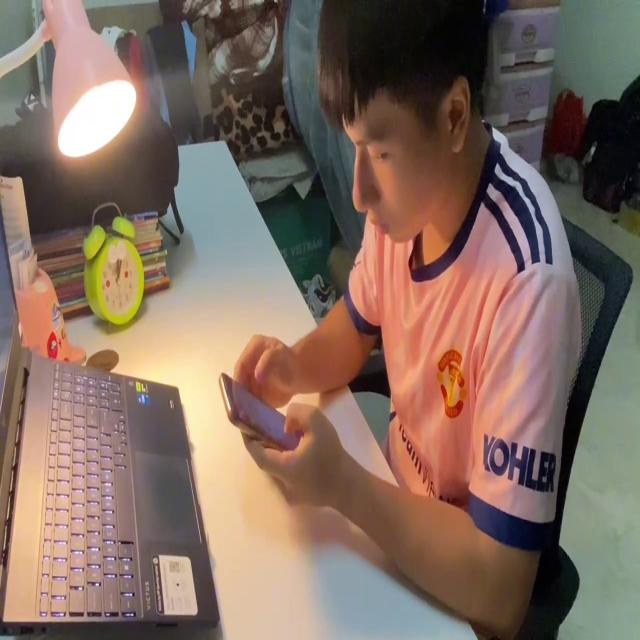laptop: (0, 158, 220, 638)
phone: (216, 361, 306, 458)
student: (228, 0, 582, 630)
